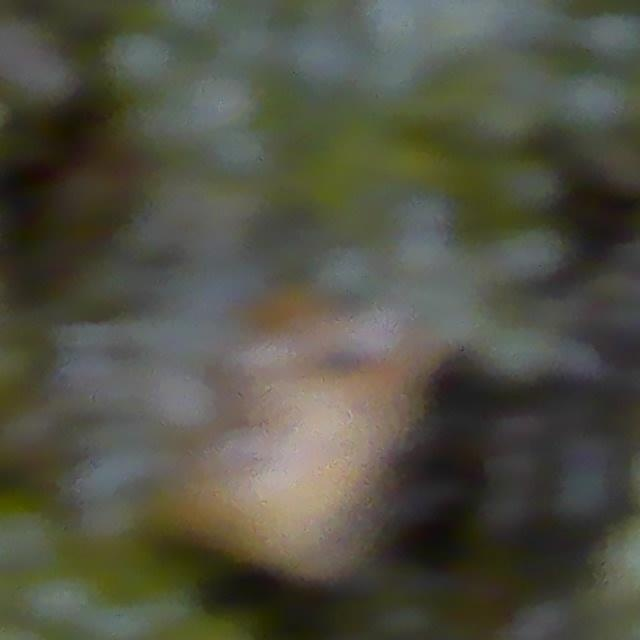SeaGrape: (486, 151, 562, 222), (555, 66, 632, 136), (489, 221, 567, 289), (182, 69, 257, 138), (105, 27, 174, 93), (583, 8, 640, 67)
